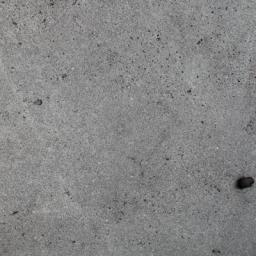FOD: (234, 171, 256, 194)
